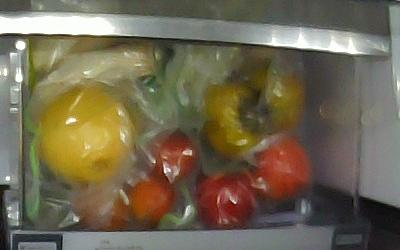apple_vinyl: (241, 141, 308, 201), (198, 174, 252, 227)
grapefruit_vinyl: (38, 90, 137, 184)
persimmon_vinyl: (202, 83, 270, 163), (237, 65, 305, 132)
prune_vinyl: (145, 126, 196, 179), (122, 173, 172, 223), (73, 189, 129, 231)
